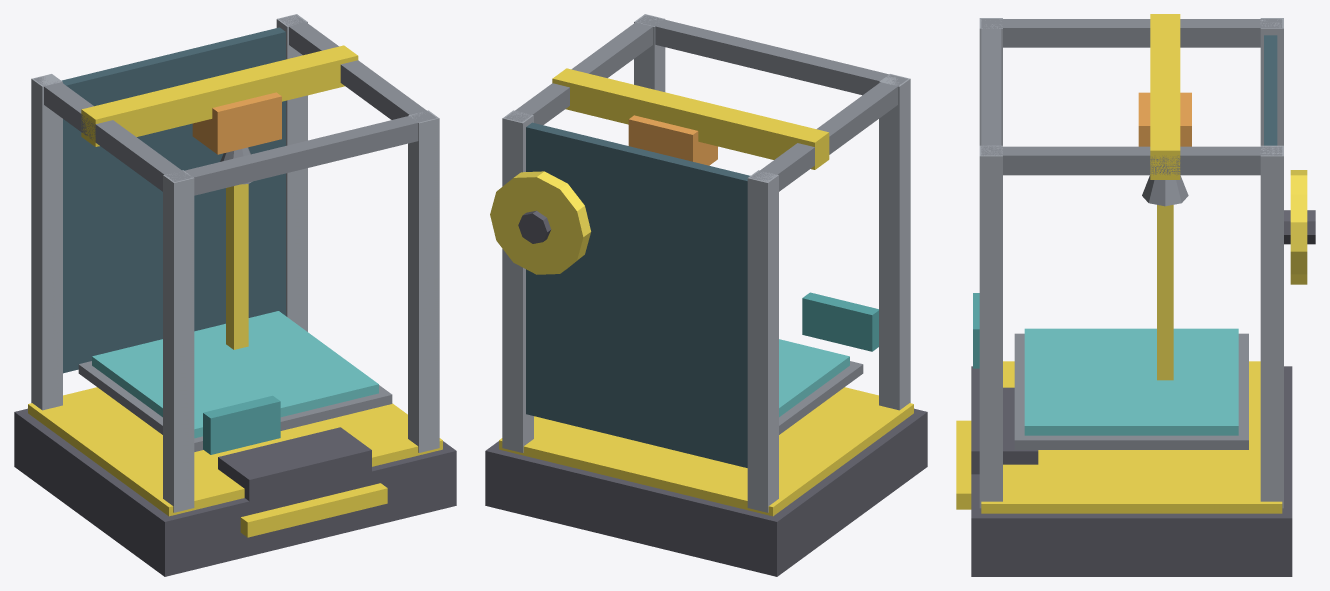
Rendered from printer3d.glb.
3 views of the same model, side by side, from view 1: azimuth 30°, elevation 25°; view 2: azimuth 150°, elevation 25°; view 3: azimuth 270°, elevation 25° (orthographic). The views are drawn at different scales.
Visible parts, largest first — view 1: printer3d; view 2: printer3d; view 3: printer3d.
Part boxes in pixels (x1,y1,x2,y2): printer3d: [14, 14, 456, 576]; printer3d: [485, 14, 927, 576]; printer3d: [956, 14, 1315, 576].
Bounding box in the file's own units: 1 × 1.28 × 1.
